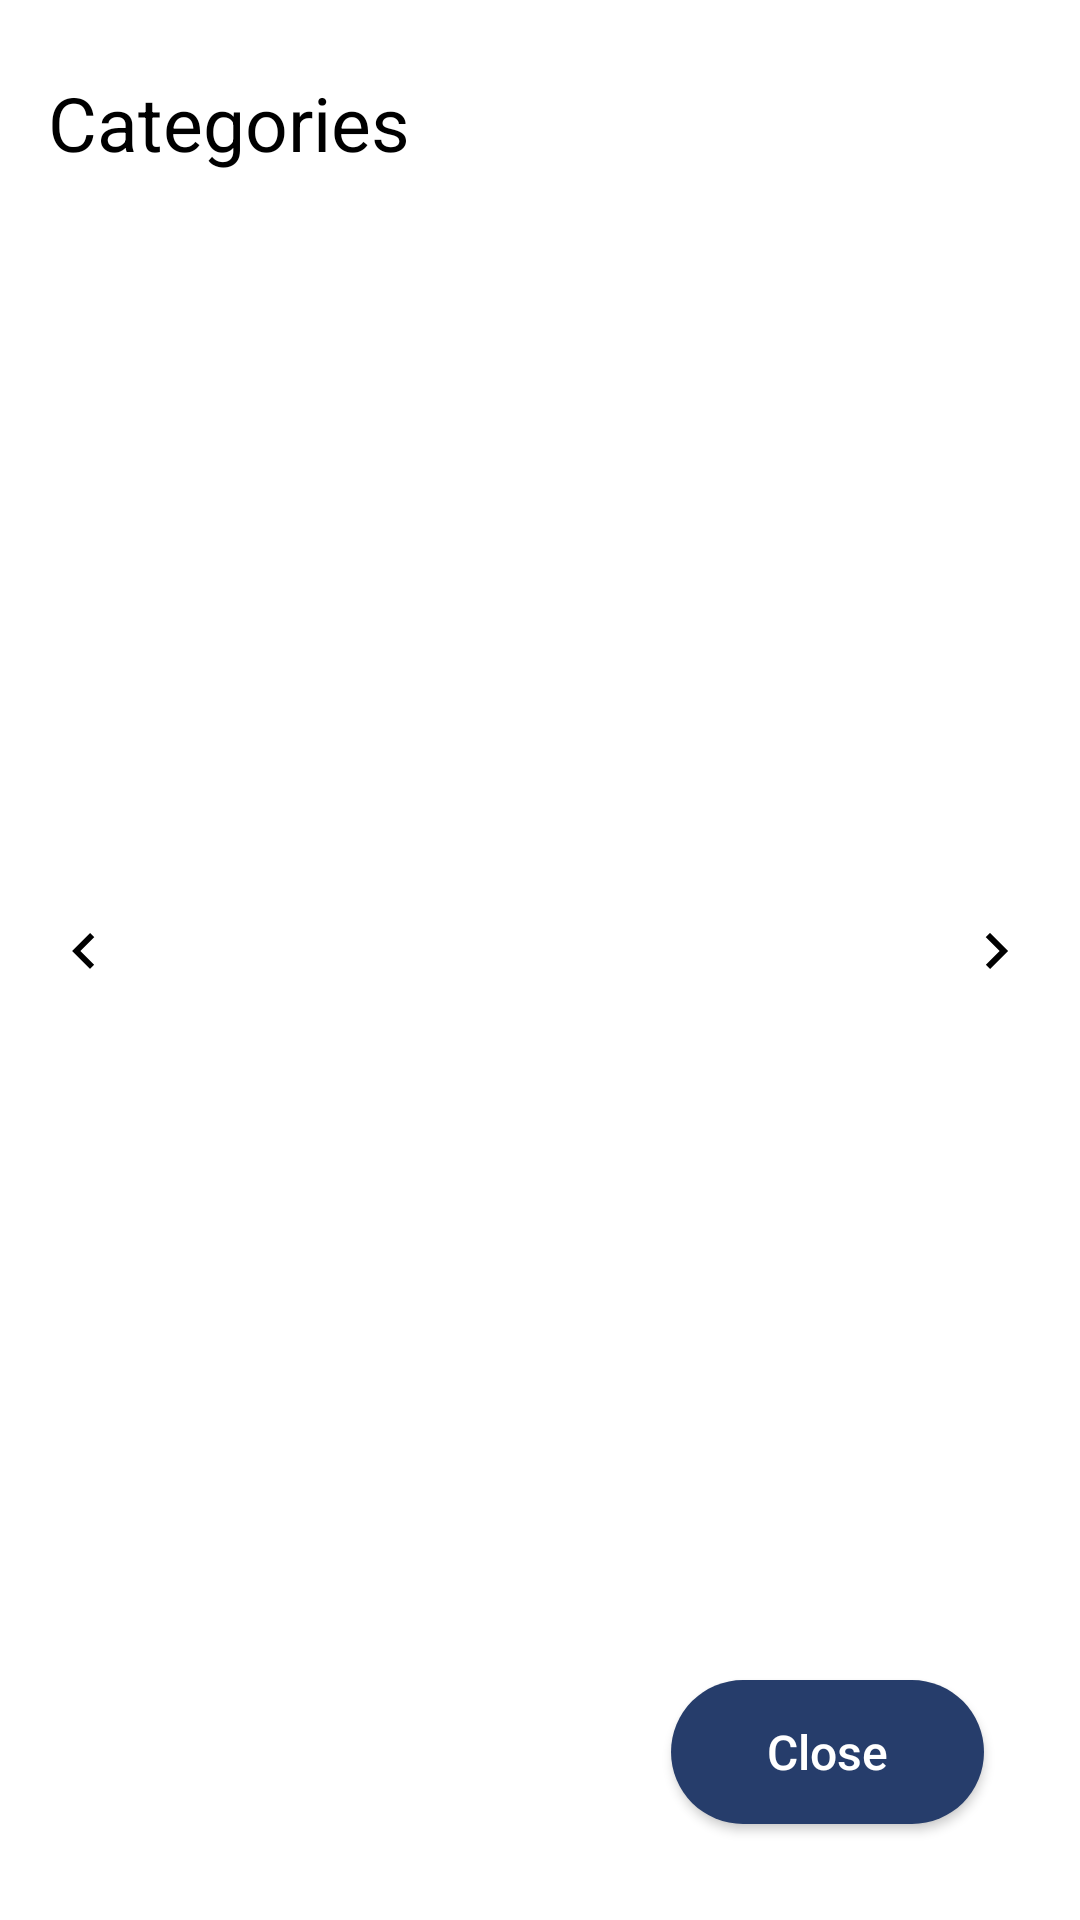

Where to tap for icons on this 1080 × 1920 app screen, as (x,y):
Next: (997,951)
Previous: (83,951)
